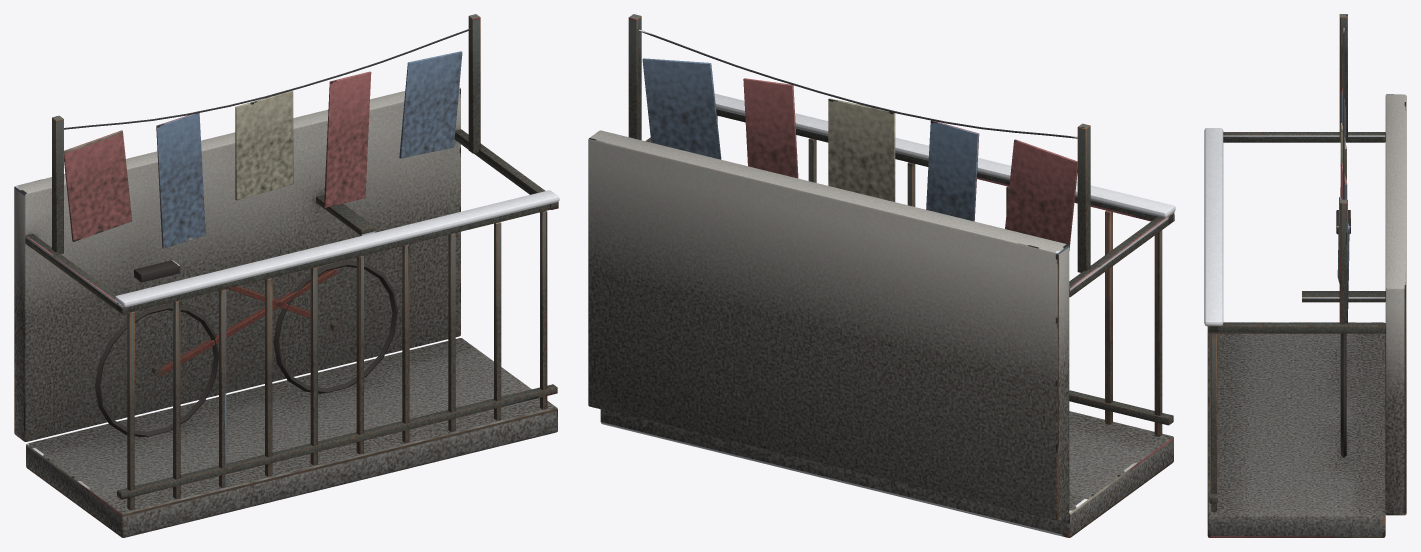
File: g67_fx_balcony_b.glb
3 renders of one model, left to right at view 1: azimuth 30°, elevation 25°; view 2: azimuth 150°, elevation 25°; view 3: azimuth 270°, elevation 25°, orthographic. The views are drawn at different scales.
Parts seen in each view (by area): view 1: wall_back, slab, snow_rail, cl0, cl2, cl1, cl3, cl4, rail_b, rail_t, bw, bw.001 (+18 smaller); view 2: wall_back, slab, cl4, cl2, cl0, cl3, cl1, snow_rail, post_l, bal, post_r, rail_s1 (+4 smaller); view 3: slab, wall_back, snow_rail, rail_s2, rail_s1, post_r, bal.009, post_l, bar, rail_b, bw.001, rope (+1 smaller).
Part boxes in pixels (x1,y1,x2,y2): wall_back: [14, 87, 460, 441]; slab: [26, 338, 557, 537]; snow_rail: [115, 190, 559, 307]; cl0: [64, 130, 132, 241]; cl2: [235, 90, 293, 200]; cl1: [156, 113, 205, 248]; cl3: [324, 71, 371, 207]; cl4: [399, 51, 462, 158]; rail_b: [117, 384, 557, 499]; rail_t: [117, 204, 550, 313]; bw: [95, 304, 218, 436]; bw.001: [273, 260, 397, 393]; wall_back: [588, 130, 1069, 520]; slab: [600, 409, 1173, 537]; cl4: [642, 58, 721, 159]; cl2: [828, 98, 895, 201]; cl0: [1005, 139, 1077, 250]; cl3: [743, 78, 798, 178]; cl1: [926, 120, 979, 221]; snow_rail: [714, 93, 1175, 217]; post_l: [1077, 123, 1090, 272]; bal: [1154, 230, 1162, 436]; post_r: [628, 14, 641, 140]; rail_s1: [1069, 212, 1174, 297]; slab: [1207, 322, 1385, 537]; wall_back: [1385, 94, 1406, 515]; snow_rail: [1204, 128, 1223, 326]; rail_s2: [1207, 323, 1385, 333]; rail_s1: [1223, 132, 1385, 142]; post_r: [1339, 199, 1347, 323]; bal.009: [1211, 333, 1216, 511]; post_l: [1339, 14, 1347, 140]; bar: [1302, 291, 1385, 302]; rail_b: [1209, 333, 1217, 503]; bw.001: [1340, 333, 1346, 457]; rope: [1343, 27, 1344, 199].
Bounding box in the file's own units: 2.2 × 1.75 × 0.965.
1 material, 1 textured.
